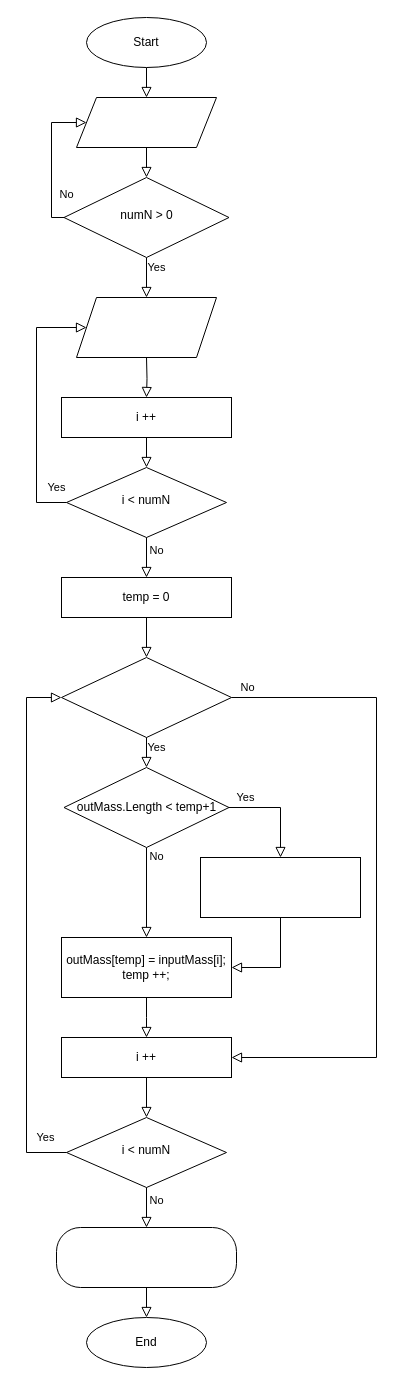
Some shapes in this 404 by 1385 pixel diagram are drawn without their labels. Here are the shapes that lost their labels. From the top down, the centre of each, then its label:
the point at 146,122: numN
the point at 146,327: inputMass [i]
the point at 146,697: inputMass[i].Length <= 3
the point at 280,887: resize(outMass, outMass.Length + 1)
the point at 146,1257: inputMass [], outMass []
